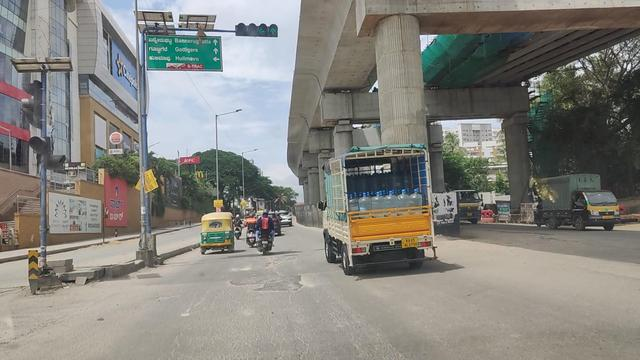HMV: (324, 143, 440, 270)
LMV: (201, 212, 237, 253), (259, 209, 277, 257)
RoadDamages: (261, 273, 303, 292), (230, 270, 262, 287)
